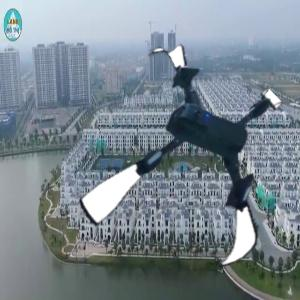drone: (76, 53, 300, 277)
